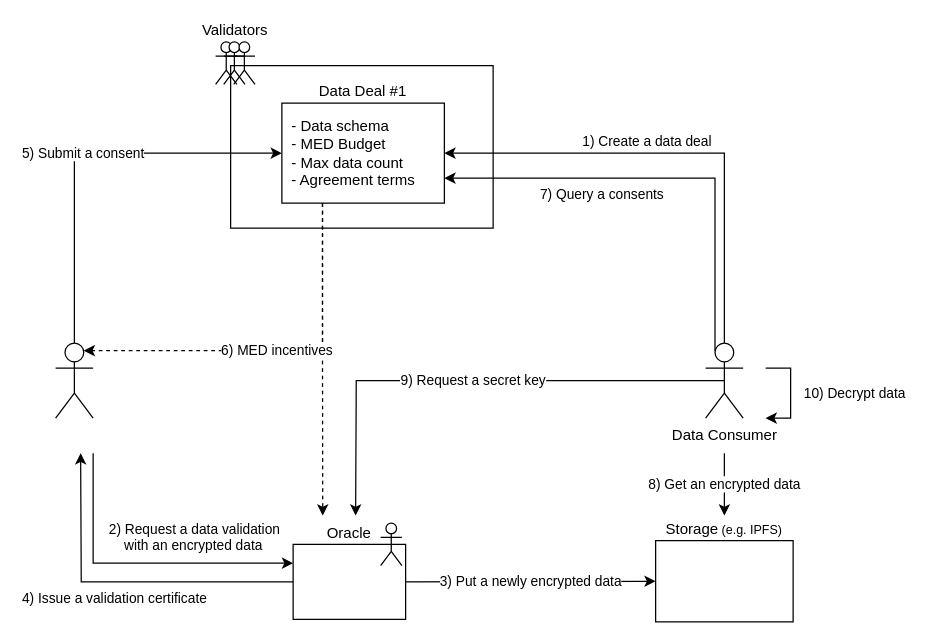
The diagram is 926 pixels wide and 644 high, and some of its shapes have lost their labels. Here are the shapes that lost their labels. From the top down, the box of each, then its label:
(229, 64, 493, 228): Panacea Blockchain
(54, 342, 93, 418): Data Provider
